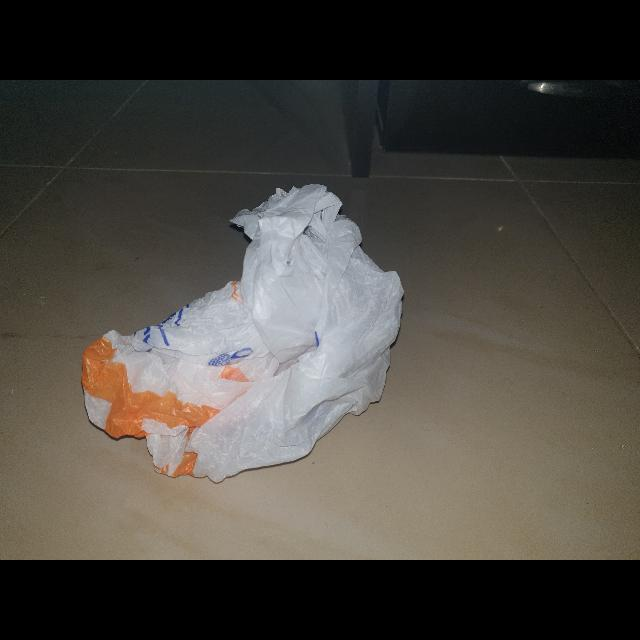plastic_bag: (72, 176, 414, 498)
